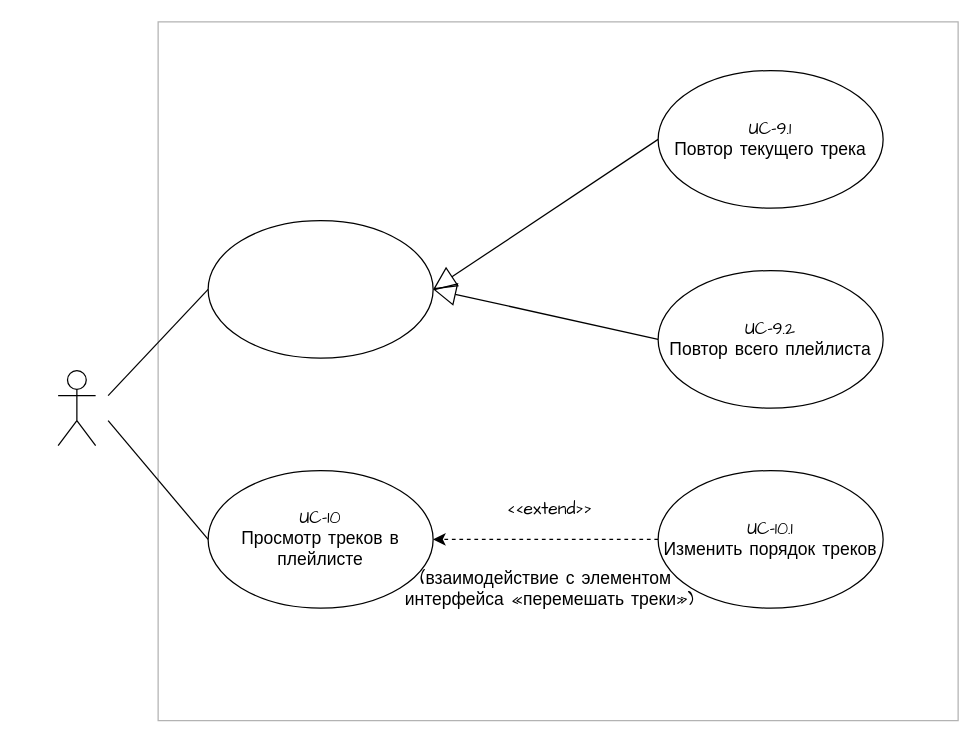
The diagram is 980 pixels wide and 743 high, and some of its shapes have lost their labels. Each missing label, with the centre of its shape:
UC-9 Включить режим повтора трека: point 320,288
Пользователь: point 76,407
